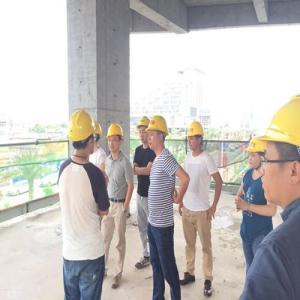yellow: (263, 95, 300, 208), (67, 111, 97, 158), (148, 116, 170, 150), (105, 122, 125, 153), (187, 122, 206, 152), (248, 137, 266, 168), (138, 117, 151, 147)
